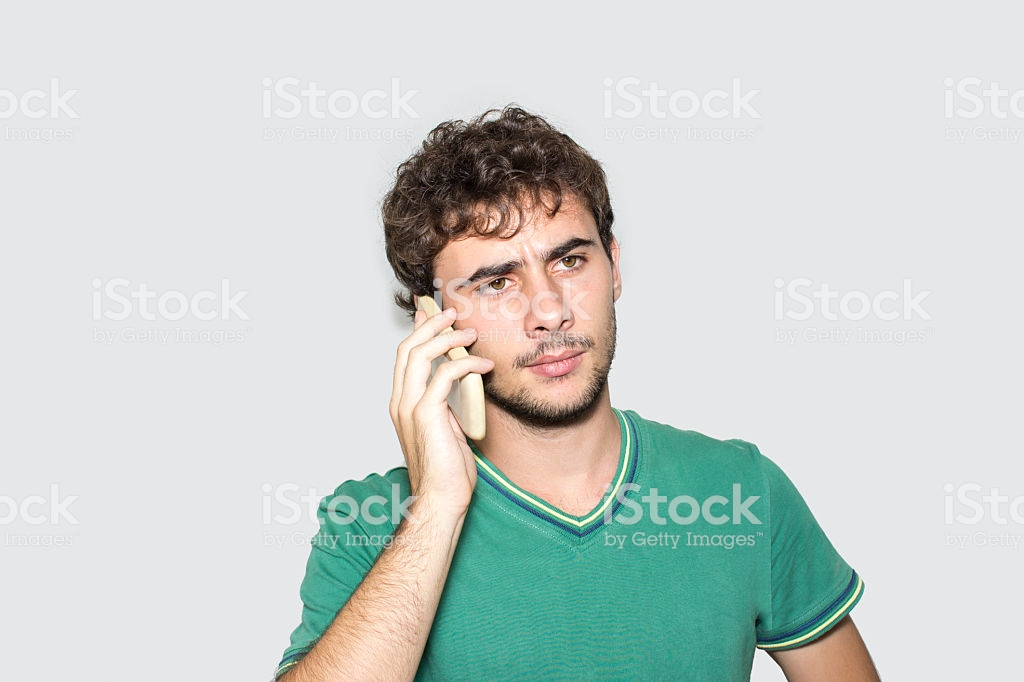phone: (404, 301, 489, 456)
talk: (384, 230, 617, 502)
